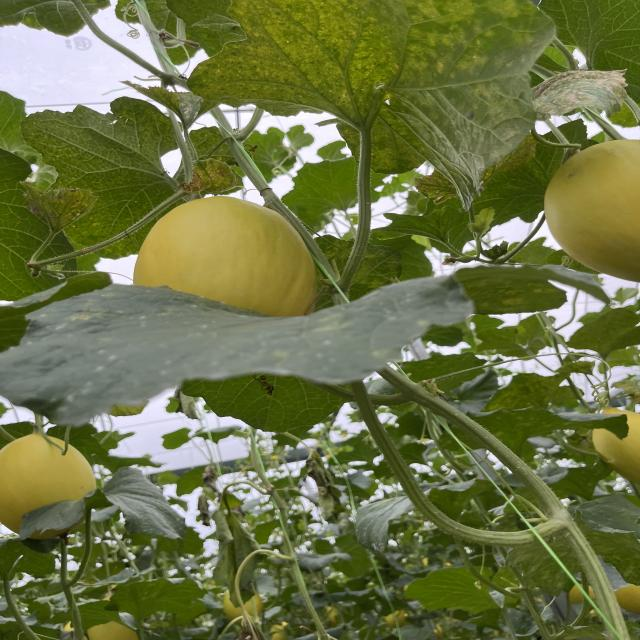CMV: (185, 0, 557, 210), (19, 182, 101, 239), (176, 157, 253, 198)
SLCV: (530, 66, 636, 122)
downy mildew: (15, 94, 198, 260), (454, 260, 614, 321)
healthy: (0, 272, 481, 428), (18, 468, 185, 551)
